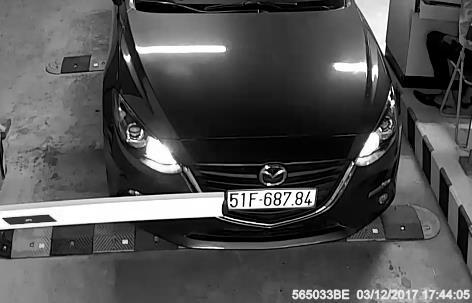License-plate: (207, 180, 322, 221)
